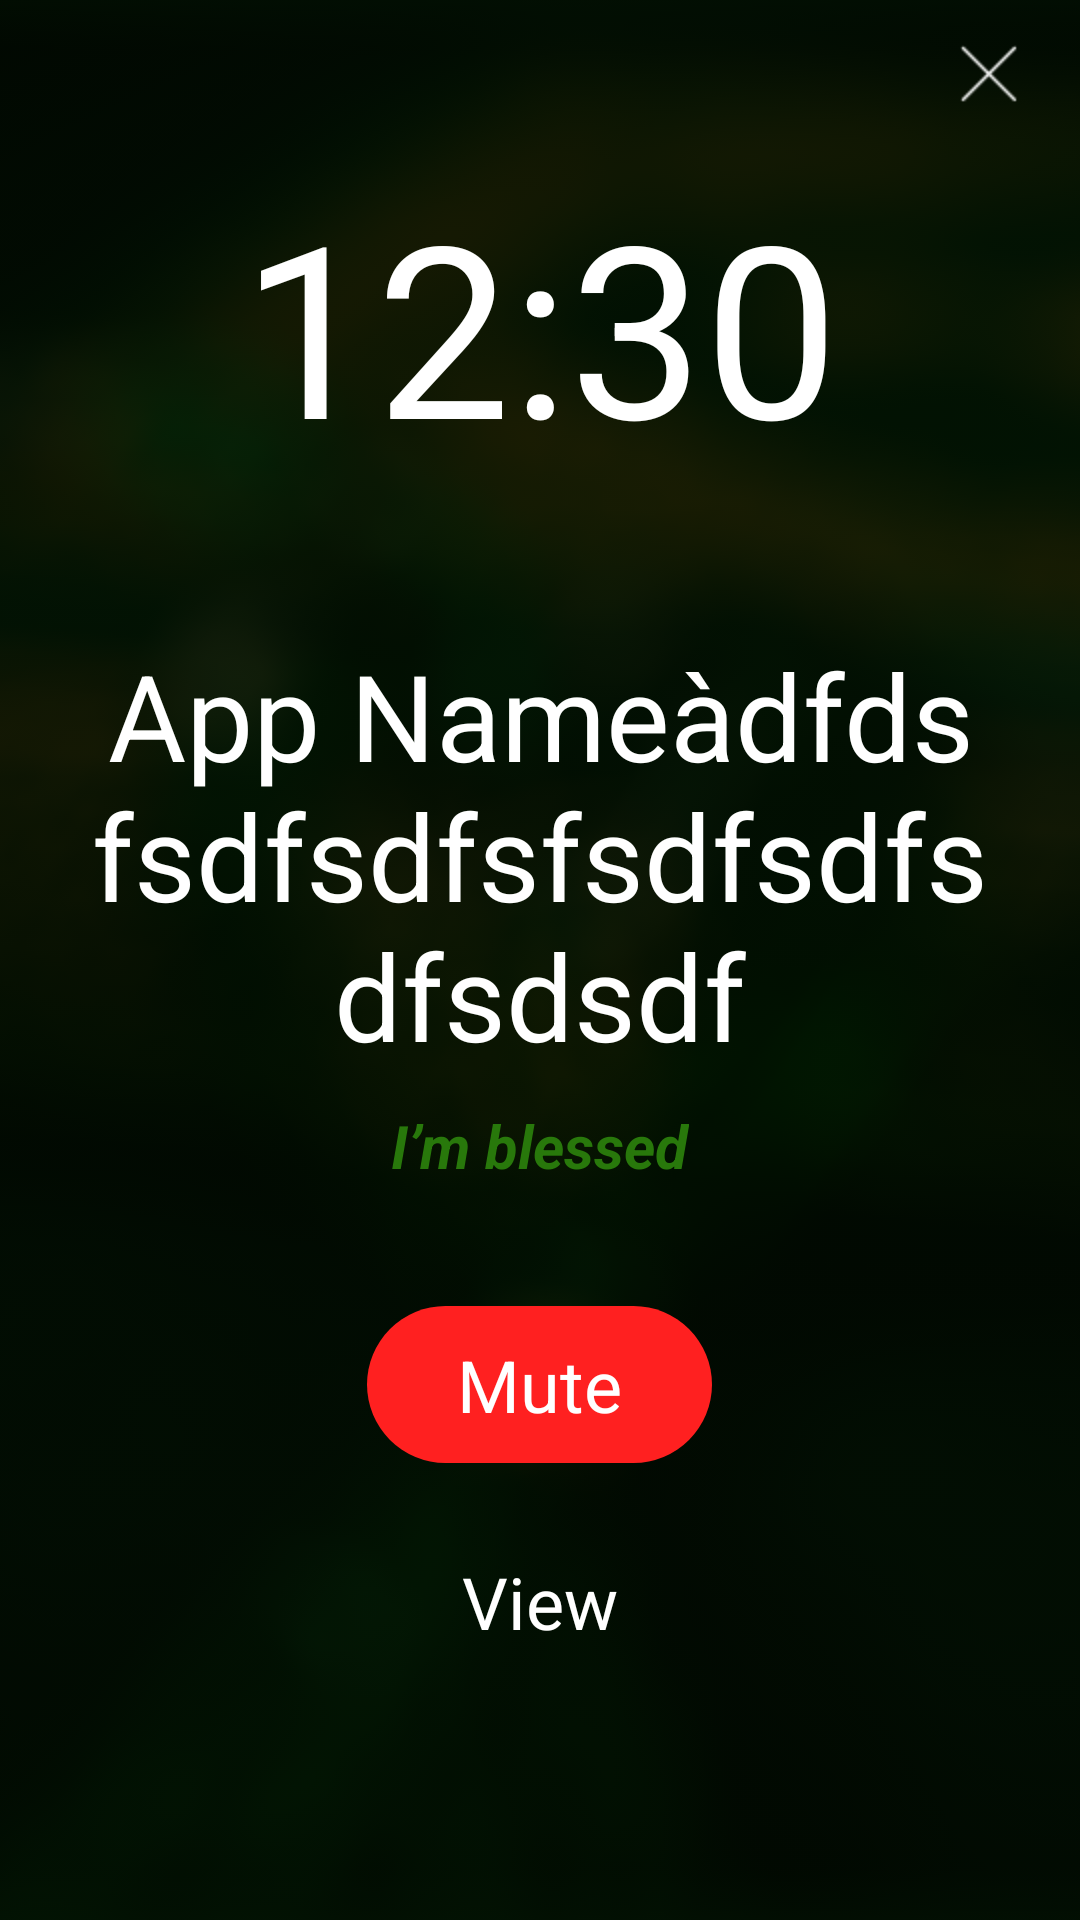

Where to tap for icons on this 1080px×1920px app screen, as (x=x, y=y):
close: (x=989, y=74)
